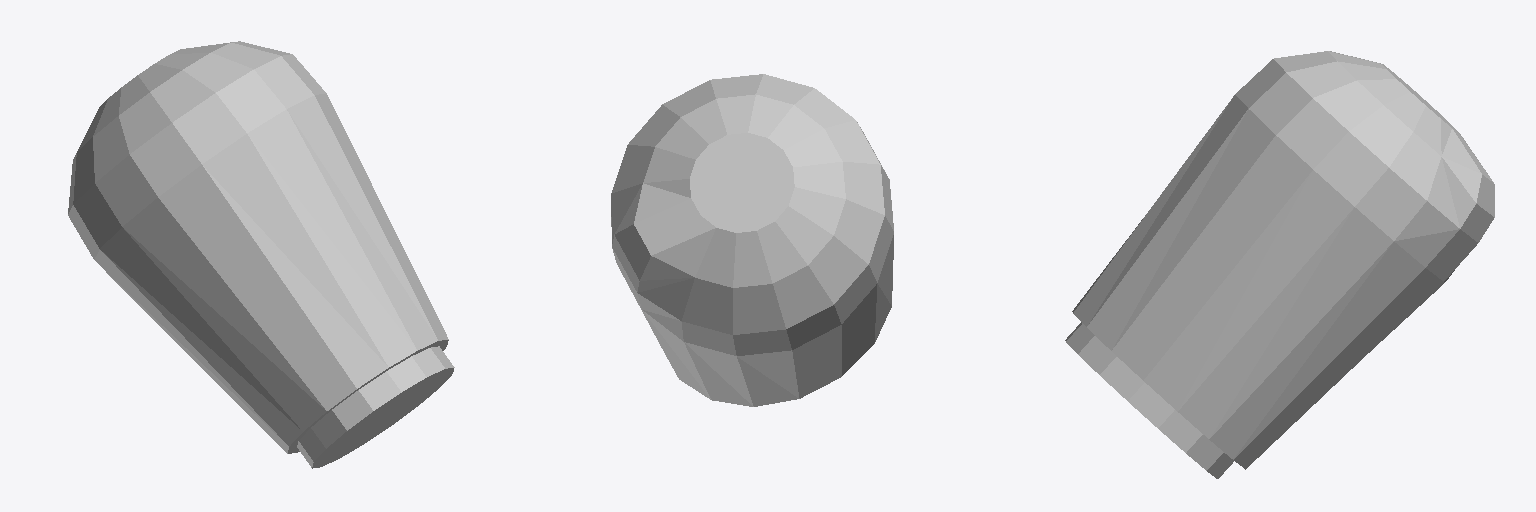
The model's file is lowerarmL.obj.
The picture shows the model from 3 angles: view 1: azimuth 30°, elevation 25°; view 2: azimuth 150°, elevation 25°; view 3: azimuth 270°, elevation 25°; orthographic projection.
Visible parts, largest first — view 1: initialShadingGroup lowarmL, initialShadingGroup lowarmL1, initialShadingGroup sleaveL1, initialShadingGroup sleaveL; view 2: initialShadingGroup lowarmL1, initialShadingGroup lowarmL; view 3: initialShadingGroup lowarmL, initialShadingGroup lowarmL1, initialShadingGroup sleaveL1.
Part boxes in pixels (left/top/right/bottom): initialShadingGroup lowarmL: left=94, top=94, right=448, bottom=453; initialShadingGroup lowarmL1: left=68, top=41, right=448, bottom=453; initialShadingGroup sleaveL1: left=297, top=346, right=454, bottom=467; initialShadingGroup sleaveL: left=312, top=368, right=453, bottom=468; initialShadingGroup lowarmL1: left=611, top=74, right=893, bottom=355; initialShadingGroup lowarmL: left=622, top=133, right=893, bottom=406; initialShadingGroup lowarmL: left=1072, top=64, right=1459, bottom=469; initialShadingGroup lowarmL1: left=1235, top=51, right=1494, bottom=281; initialShadingGroup sleaveL1: left=1065, top=322, right=1233, bottom=478.
Bounding box in the file's own units: 0.9208 × 1.16 × 1.21.